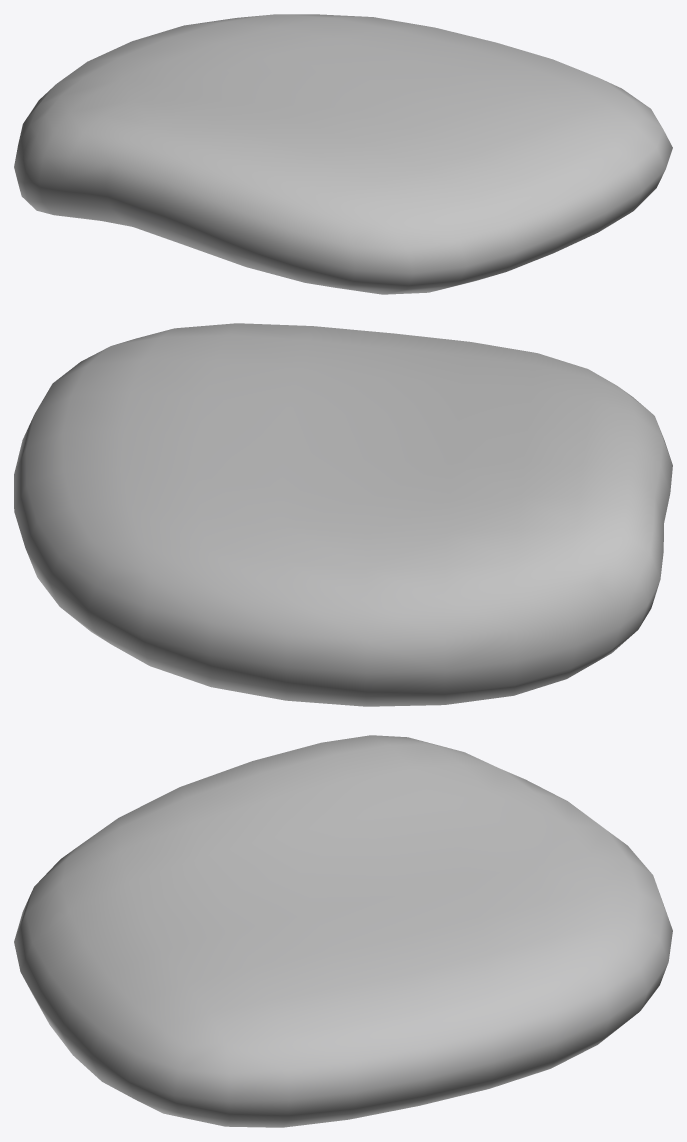
The model's file is Farm_14_Stone_4.glb.
3 views of the same model, one above another, from view 1: azimuth 30°, elevation 25°; view 2: azimuth 150°, elevation 25°; view 3: azimuth 270°, elevation 25° (orthographic). The views are drawn at different scales.
Visible parts, largest first — view 1: Farm_14_Stone_4; view 2: Farm_14_Stone_4; view 3: Farm_14_Stone_4.
Part boxes in pixels (x1=…): Farm_14_Stone_4: x1=14, y1=14, x2=672, y2=294; Farm_14_Stone_4: x1=14, y1=323, x2=672, y2=706; Farm_14_Stone_4: x1=14, y1=735, x2=672, y2=1127.
Size of the model in its own units: 1.22 by 0.2954 by 1.12.
Materials: 1 (1 with a texture image).
